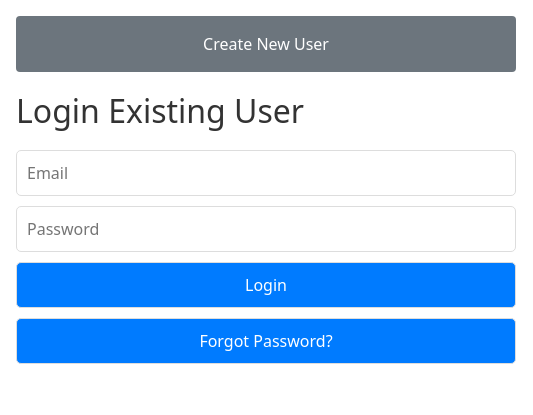
Test: LoginPage › handles successful login
Type "test@example.com" into the field with test id "email-input" at (266, 173), box 16,150 -> 516,196
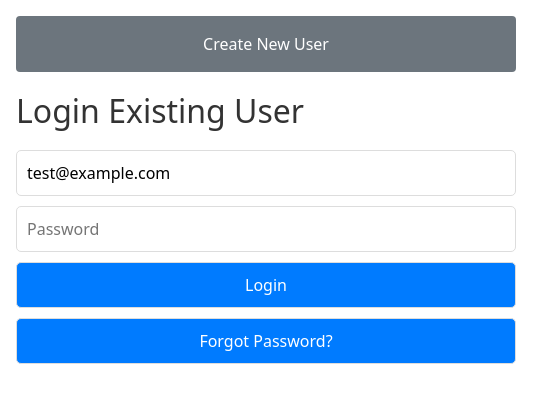
Type "password123" into the password field with test id "password-input" at (266, 229), box 16,206 -> 516,252
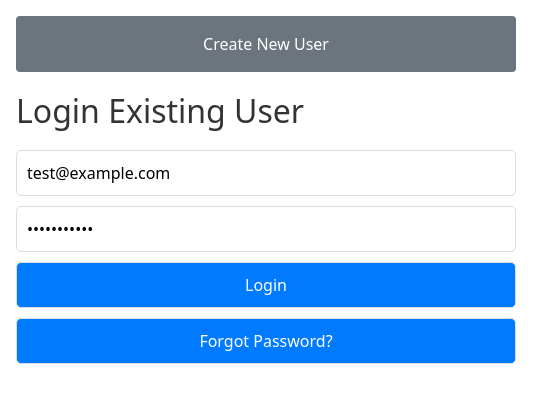
Click the button with test id "login-button" at (266, 285), box 16,262 -> 516,308
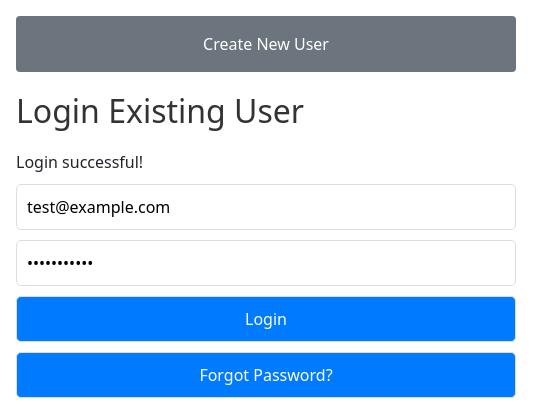
Now the text "Login successful!" is shown, box 16,151 -> 143,173
